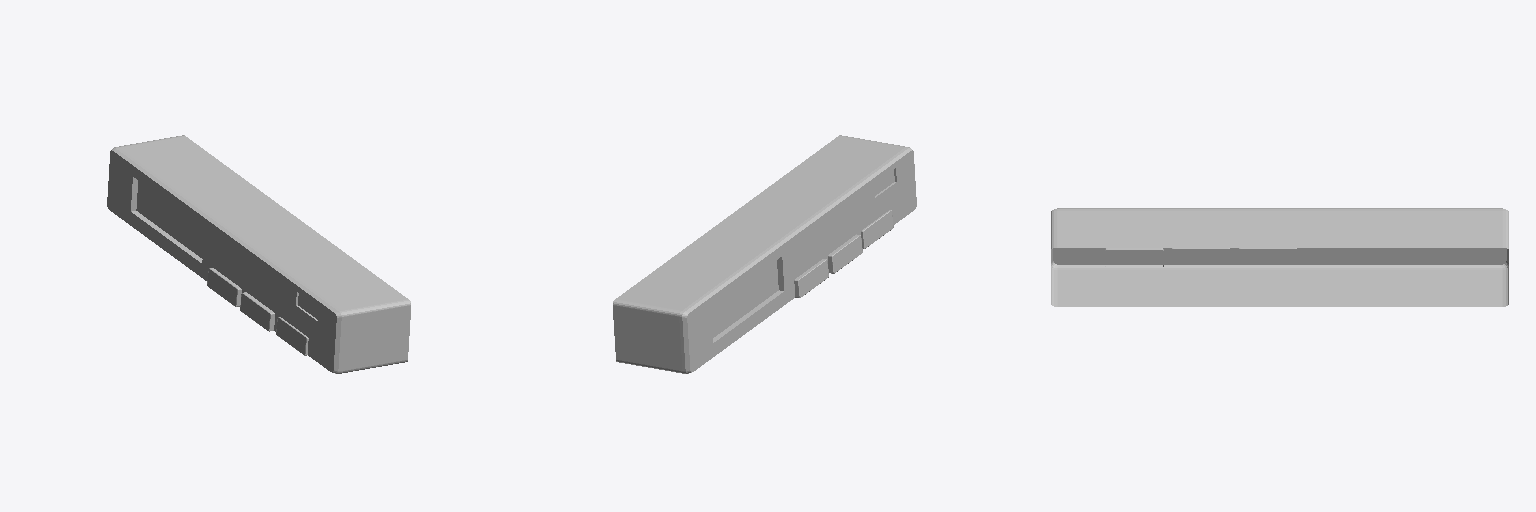
Rendered from caessete_compuerta.obj.
3 views of the same model, side by side, from view 1: azimuth 30°, elevation 25°; view 2: azimuth 150°, elevation 25°; view 3: azimuth 270°, elevation 25° (orthographic).
Parts seen in each view (by area): view 1: polySurface570; view 2: polySurface570; view 3: polySurface570.
Boxes of the visible parts, x1=… form: polySurface570: x1=107, y1=135, x2=410, y2=373; polySurface570: x1=613, y1=135, x2=916, y2=373; polySurface570: x1=1051, y1=208, x2=1508, y2=306.
Size of the model in its own units: 0.1593 by 0.1218 by 0.7688.